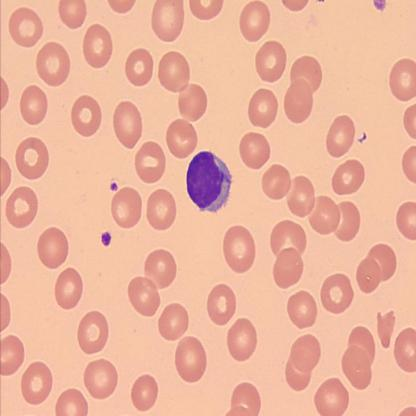Lymphocyte: (185, 149, 233, 214)
